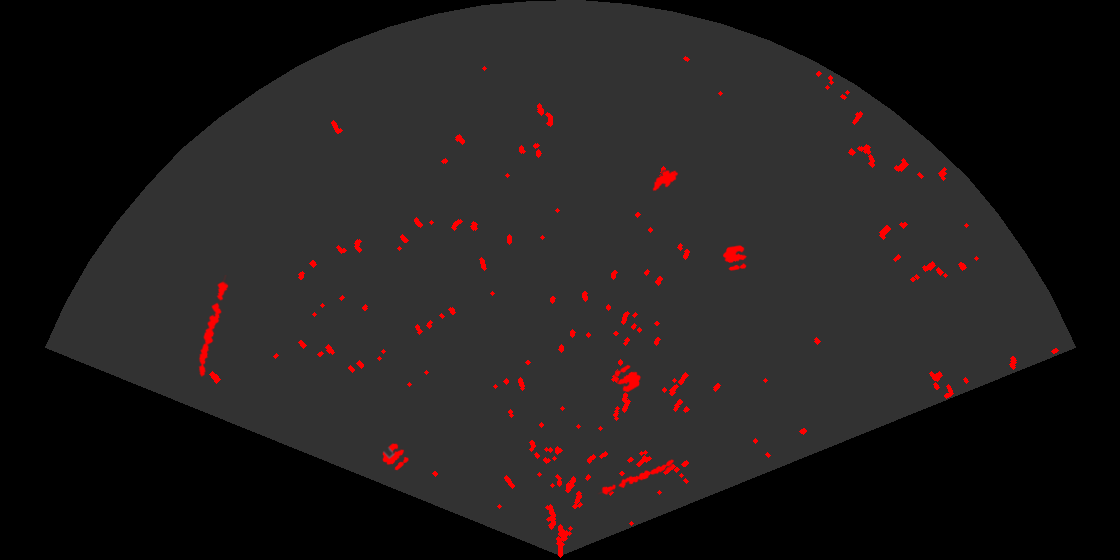AUV: (651, 168, 680, 193)
ball: (613, 363, 643, 394), (381, 442, 410, 472), (721, 244, 749, 272)
chain: (197, 275, 230, 379), (597, 458, 676, 497)
